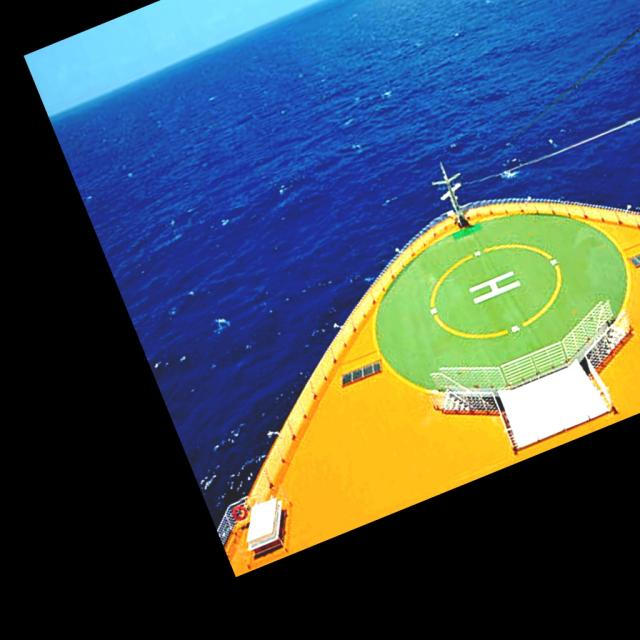helipad: (424, 240, 564, 342)
